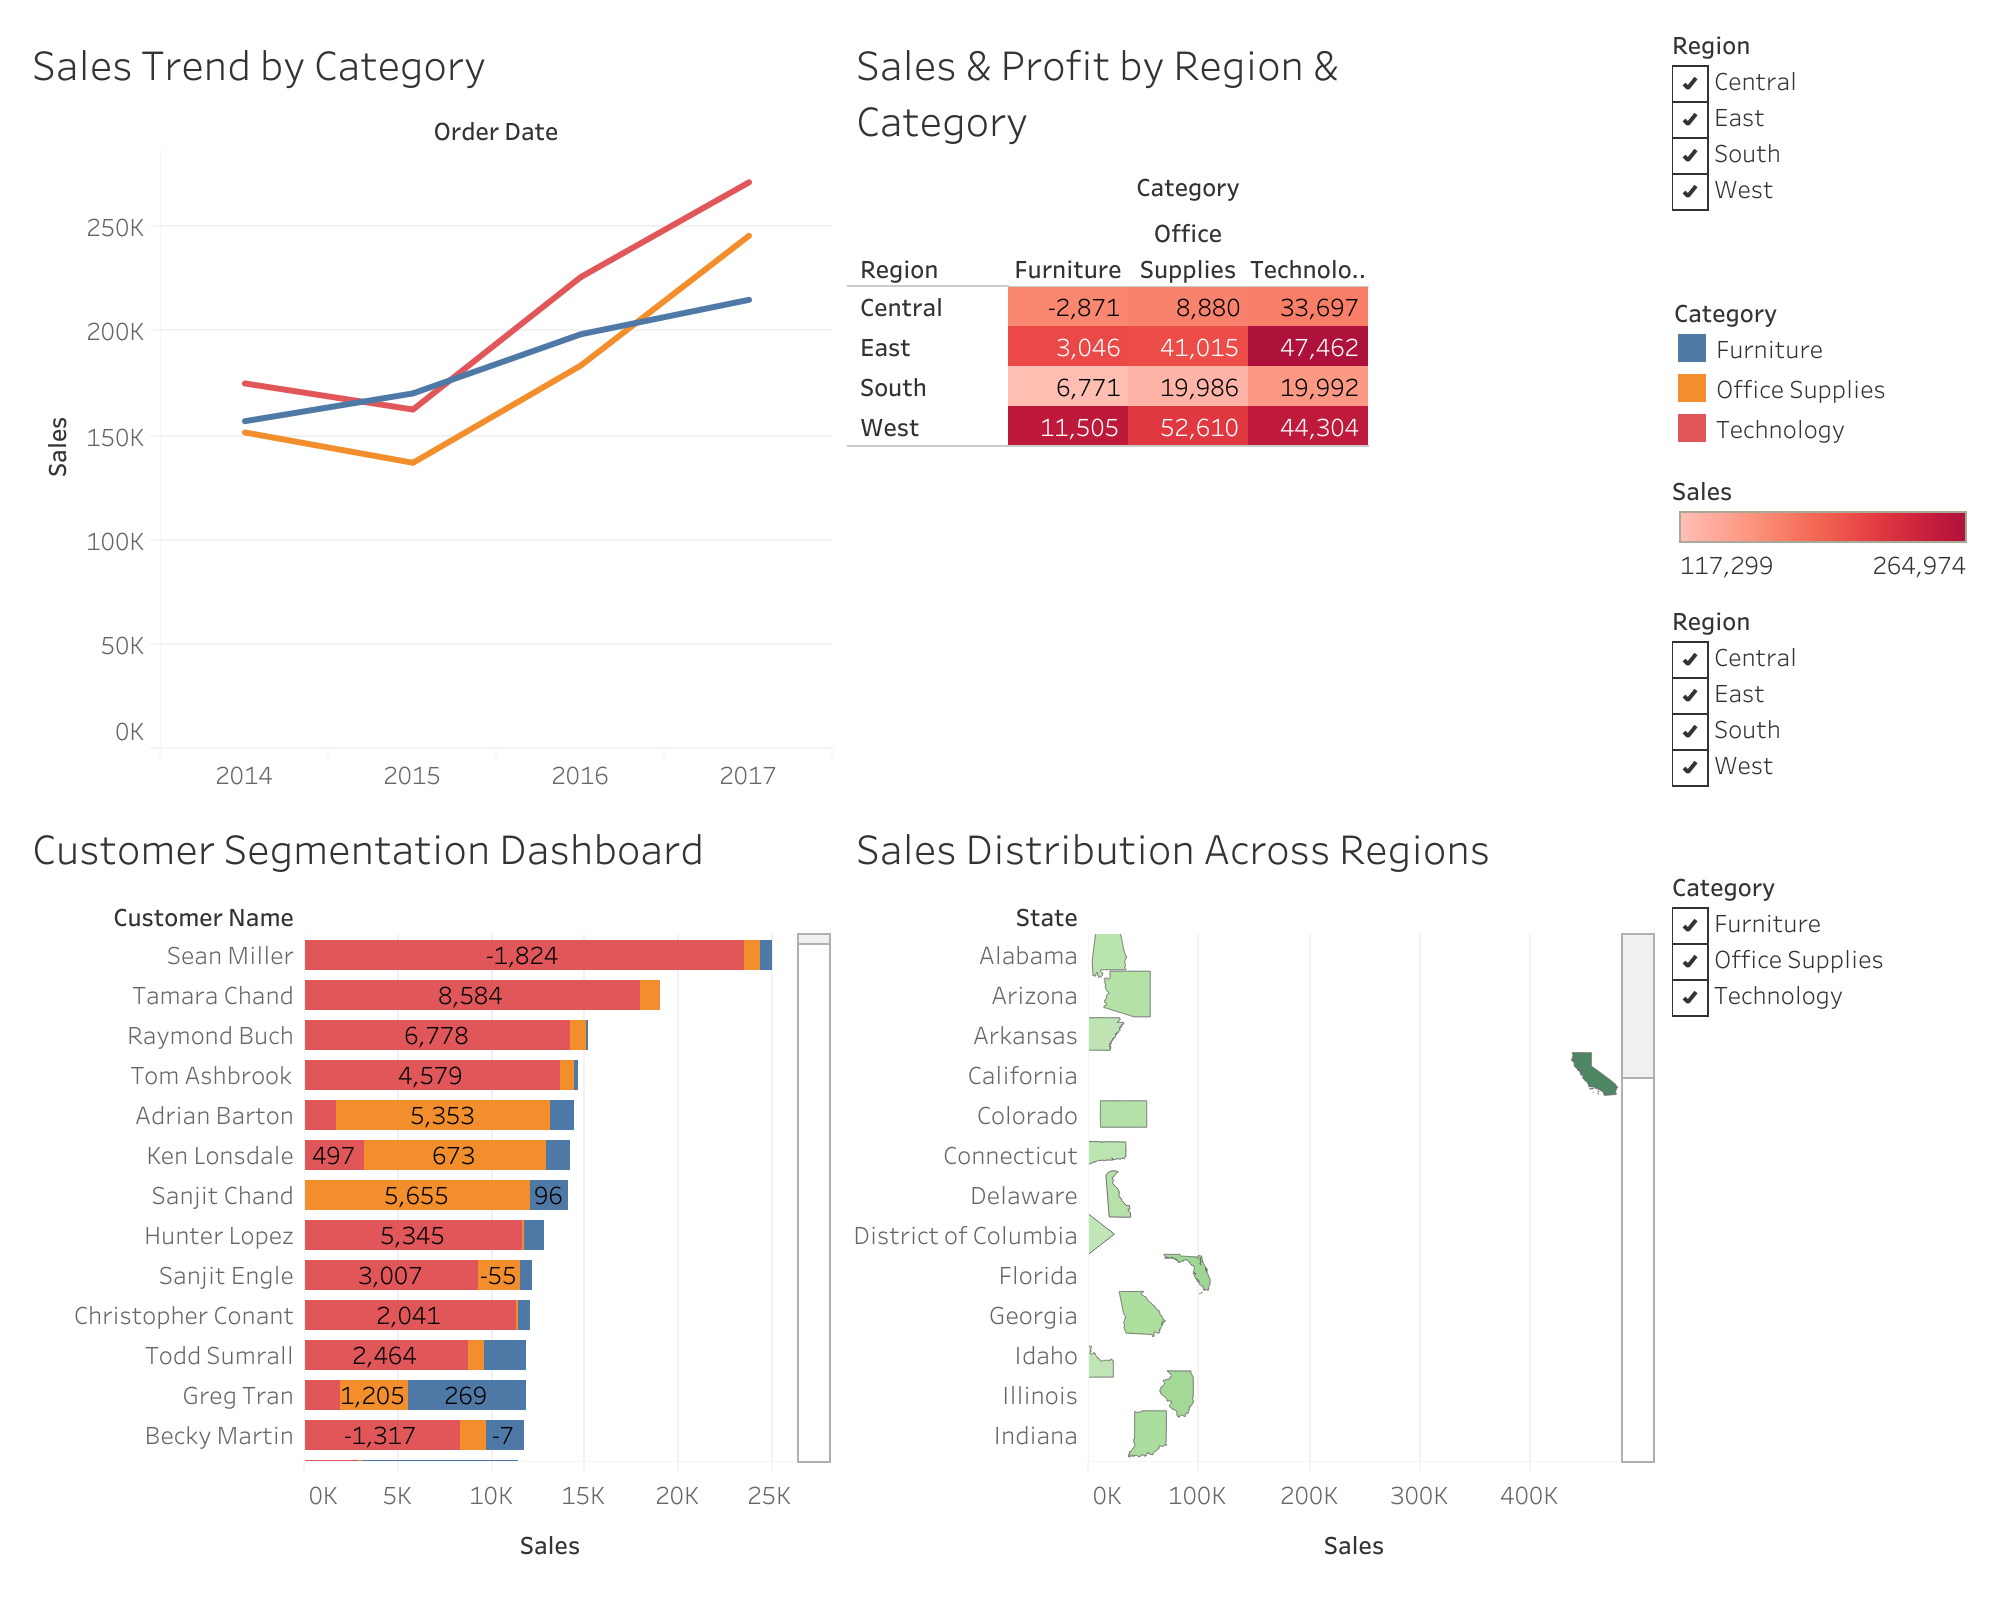

Layout of this report page (visuals, bound fields, positions):
{"tool":"tableau","page":{"name":"Super Sale Analysis","canvas":[1000,800],"ordinal":0},"visuals":[{"type":"worksheet","title":"Sales Trend by Category","mark":"Line","rows":["Sales"],"cols":["Order Date"],"box":[8,8,412,392]},{"type":"worksheet","title":"Sales & Profit by Region & Category","mark":"Square","rows":["Region"],"cols":["Category"],"box":[420,8,412,392]},{"type":"filter","title":"Sales Trend by Category","param":"[federated.0r3ow2n1qdyafd13jv18i026w4ib].[none:Region:nk]","box":[832,8,160,133]},{"type":"legend","title":"Sales Trend by Category","param":"[federated.0r3ow2n1qdyafd13jv18i026w4ib].[none:Category:nk]","box":[832,141,160,87]},{"type":"legend","title":"Sales & Profit by Region & Category","param":"[federated.0r3ow2n1qdyafd13jv18i026w4ib].[sum:Sales:qk]","box":[832,228,160,68]},{"type":"filter","title":"Customer Segmentation Dashboard","param":"[federated.0r3ow2n1qdyafd13jv18i026w4ib].[none:Region:nk]","box":[832,296,160,133]},{"type":"worksheet","title":"Customer Segmentation Dashboard","mark":"Automatic","rows":["Customer Name"],"cols":["Sales"],"box":[8,400,412,392]},{"type":"worksheet","title":"Sales Distribution Across Regions","mark":"Multipolygon","rows":["State"],"cols":["Sales"],"box":[420,400,412,392]},{"type":"filter","title":"Customer Segmentation Dashboard","param":"[federated.0r3ow2n1qdyafd13jv18i026w4ib].[none:Category:nk]","box":[832,429,160,113]}]}

Visuals, with their boxes in screenshot pixels (x1, y1, x2, y2), scaled from the page's 1000x800 canvas onto the 1998x1598 screenshot:
"Sales Trend by Category" worksheet (Line marks): {"left": 16, "top": 16, "right": 839, "bottom": 799}
"Sales & Profit by Region & Category" worksheet (Square marks): {"left": 839, "top": 16, "right": 1662, "bottom": 799}
"Sales Trend by Category" filter: {"left": 1662, "top": 16, "right": 1982, "bottom": 282}
"Sales Trend by Category" legend: {"left": 1662, "top": 282, "right": 1982, "bottom": 455}
"Sales & Profit by Region & Category" legend: {"left": 1662, "top": 455, "right": 1982, "bottom": 591}
"Customer Segmentation Dashboard" filter: {"left": 1662, "top": 591, "right": 1982, "bottom": 857}
"Customer Segmentation Dashboard" worksheet: {"left": 16, "top": 799, "right": 839, "bottom": 1582}
"Sales Distribution Across Regions" worksheet (Multipolygon marks): {"left": 839, "top": 799, "right": 1662, "bottom": 1582}
"Customer Segmentation Dashboard" filter: {"left": 1662, "top": 857, "right": 1982, "bottom": 1083}
